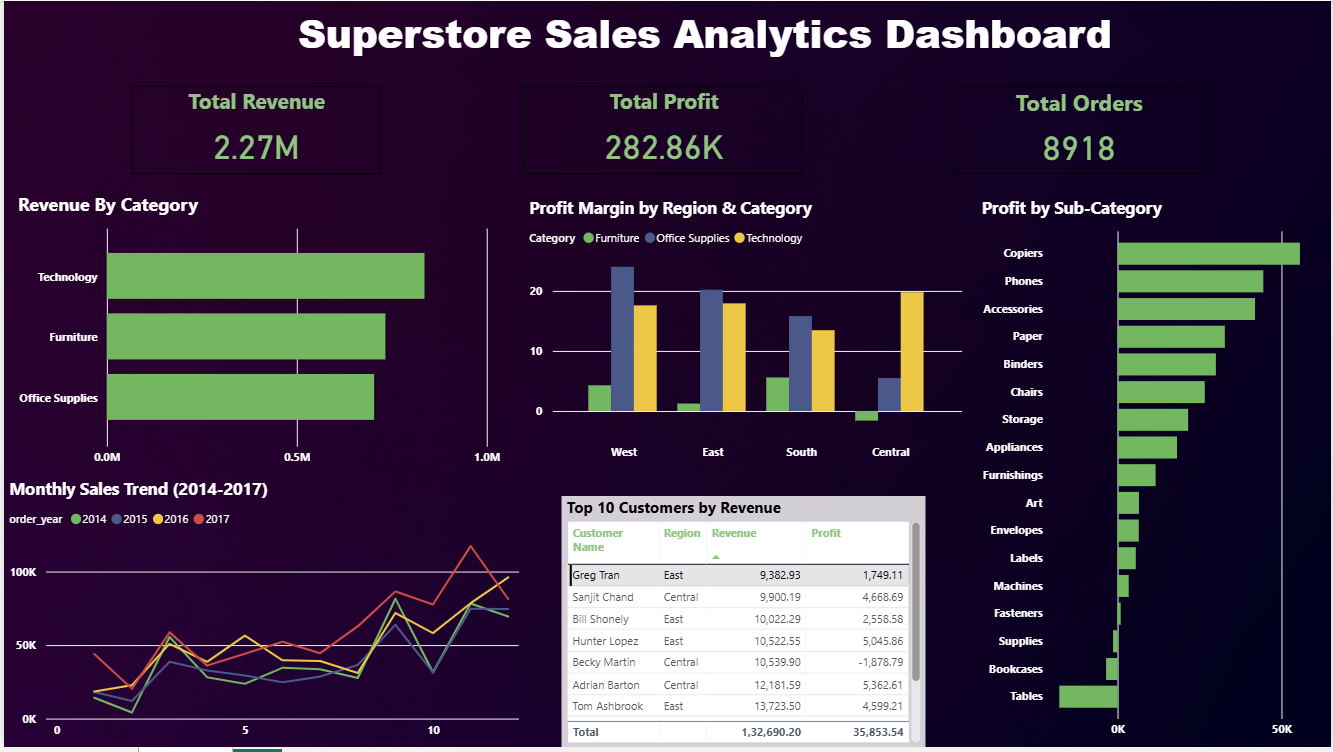

What the dashboard file says about the page in this screenshot:
{"tool":"powerbi","page":{"name":"Page 1","canvas":[1280,720],"ordinal":0},"visuals":[{"type":"card","title":"Total Revenue","fields":{"Values":["Sum(Category_revenue.total_revenue)"]},"box":[123,82,240,84.4],"z":0},{"type":"card","title":"Total Profit","fields":{"Values":["Sum(Category_revenue.total_profit)"]},"box":[501.7,82,268.9,84.4],"z":1000},{"type":"card","title":"Total Orders","fields":{"Values":["Sum(subcategory_performance.total_orders)"]},"box":[916.6,82,240,84.4],"z":2000},{"type":"clusteredBarChart","title":"Revenue By Category","fields":{"Category":["Category_revenue.category"],"Y":["Sum(Category_revenue.total_revenue)"]},"box":[8.6,184.6,475.5,272.6],"z":3000},{"type":"lineChart","title":"Monthly Sales Trend (2014-2017)","fields":{"Category":["Monthly_trend.order_month"],"Y":["Sum(Monthly_trend.monthly_sales)"],"Series":["Monthly_trend.order_year"]},"box":[0,459.5,501.7,260.5],"z":4000},{"type":"clusteredBarChart","title":"Profit by Sub-Category","fields":{"Category":["subcategory_performance.Sub-Category"],"Y":["Sum(subcategory_performance.total_profit)"]},"box":[938.8,188.3,341.1,531.7],"z":5000},{"type":"clusteredColumnChart","title":"Profit Margin by Region & Category","fields":{"Category":["regional_margin.Region"],"Y":["Sum(regional_margin.profit_margin_pct)"],"Series":["regional_margin.Category"]},"box":[501.2,188.3,427.8,264],"z":6000},{"type":"tableEx","title":"Top 10 Customers by Revenue","fields":{"Values":["top_customers.Customer Name","top_customers.Region","Sum(top_customers.total_sales)","Sum(top_customers.total_profit)"]},"box":[538,477.8,351.3,242.9],"z":6500},{"type":"textbox","box":[278.6,0,849,69.9],"z":7000}]}

Visuals, with their boxes in screenshot pixels (x1, y1, x2, y2), scaled from the page's 1280x720 canvas onto the 1333x752 screenshot:
"Total Revenue" card: 128:86:378:174
"Total Profit" card: 522:86:803:174
"Total Orders" card: 955:86:1204:174
"Revenue By Category" clusteredBarChart: 9:193:504:478
"Monthly Sales Trend (2014-2017)" lineChart: 0:480:522:751
"Profit by Sub-Category" clusteredBarChart: 978:197:1332:751
"Profit Margin by Region & Category" clusteredColumnChart: 522:197:967:472
"Top 10 Customers by Revenue" tableEx: 560:499:926:751
textbox: 290:0:1174:73
